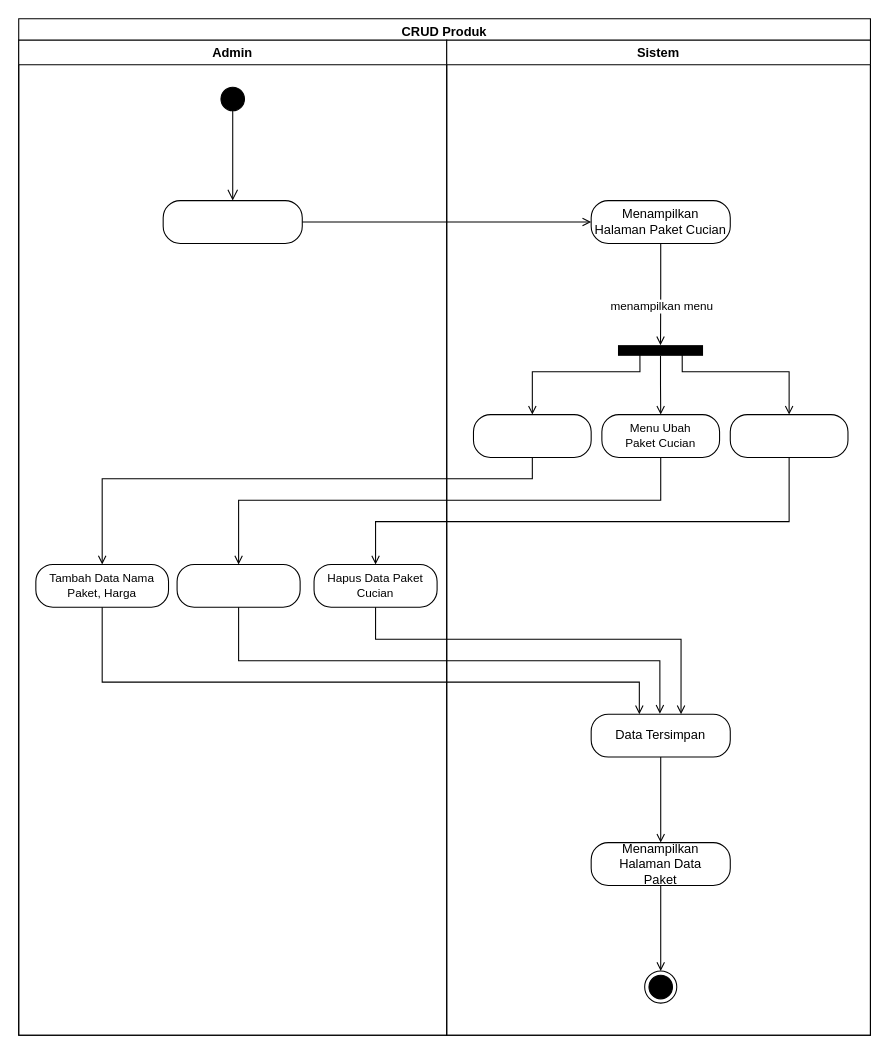
This 889x1054 diagram has some shape labels left out. Each missing label, with the centre of its shape:
"Memilih Menu Paket Cucian" goes at point (232, 221).
"Menu Hapus Paket Cucian" goes at point (788, 435).
"Menu Tambah Paket Cucian" goes at point (531, 435).
"Ubah Data Nama Paket, Harga" goes at point (238, 585).
